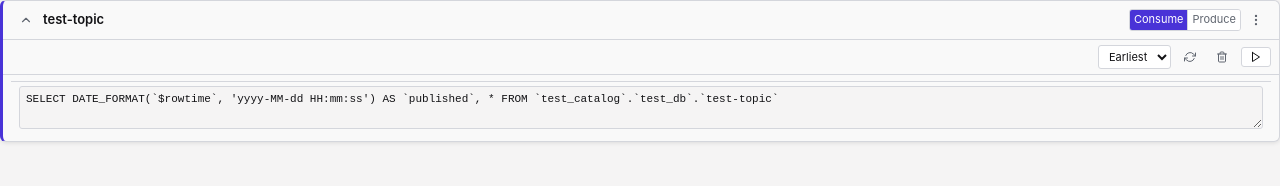
[@stream-card-coverage] StreamCard Coverage › [@stream-card-coverage] Fetch Error › shows error when fetch fails
Click the button named "Fetch messages". click: (1190, 57)
box: [1177,44,1203,70]
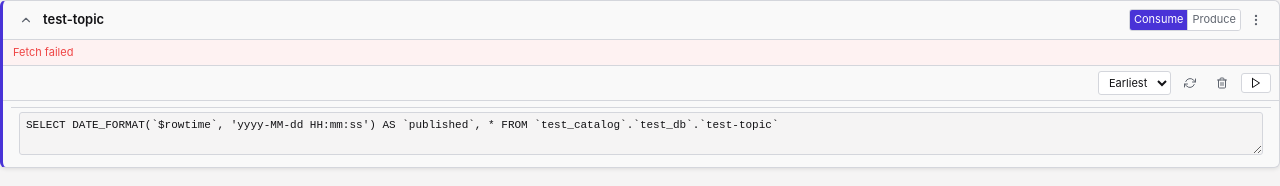
Check: the text "Fetch failed" is shown, box [3,40,1279,66]
